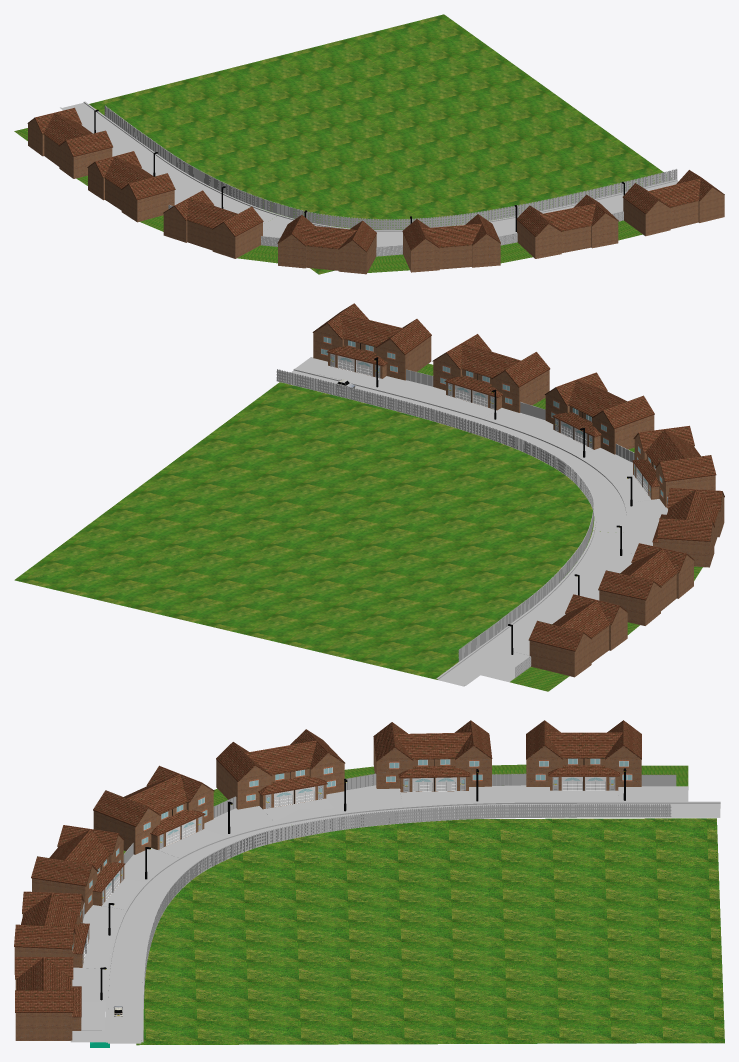
Rendered from Level.fbx.
3 renders of one model, top to bottom at view 1: azimuth 30°, elevation 25°; view 2: azimuth 150°, elevation 25°; view 3: azimuth 270°, elevation 25°, orthographic. The views are drawn at different scales.
Parts seen in each view (by area): view 1: AlwaysGreener, Cube.001, Road, HouseBody.001, HouseBody, HouseBody.003, HouseBody.002, HouseBody.004, HouseBody.005, HouseBody.006, SideRoofs.006, SideRoofs.005 (+16 smaller); view 2: AlwaysGreener, Road, Cube.001, Drive, HouseBody.006, HouseBody.005, HouseBody, HouseBody.001, SideRoofs.004, HouseBody.002, SideRoofs.003, SideRoofs.005 (+18 smaller); view 3: AlwaysGreener, Road, Drive, Cube.001, HouseBody.004, SideRoofs.001, SideRoofs.002, SideRoofs, HouseBody.003, HouseBody.005, HouseBody.006, SideRoofs.003 (+28 smaller).
Boxes of the visible parts, left/top/right/bottom form: AlwaysGreener: left=89, top=14, right=671, bottom=274; Cube.001: left=104, top=105, right=677, bottom=229; Road: left=60, top=101, right=678, bottom=242; HouseBody.001: left=517, top=213, right=618, bottom=258; HouseBody: left=623, top=187, right=724, bottom=236; HouseBody.003: left=278, top=234, right=376, bottom=274; HouseBody.002: left=403, top=233, right=500, bottom=272; HouseBody.004: left=163, top=207, right=262, bottom=258; HouseBody.005: left=88, top=163, right=174, bottom=222; HouseBody.006: left=28, top=119, right=112, bottom=178; SideRoofs.006: left=27, top=107, right=112, bottom=156; SideRoofs.005: left=87, top=151, right=175, bottom=200; AlwaysGreener: left=14, top=382, right=608, bottom=679; Road: left=291, top=368, right=628, bottom=686; Cube.001: left=276, top=369, right=593, bottom=661; Drive: left=295, top=357, right=667, bottom=682; HouseBody.006: left=529, top=607, right=627, bottom=677; HouseBody.005: left=599, top=555, right=693, bottom=625; HouseBody: left=313, top=324, right=431, bottom=380; HouseBody.001: left=433, top=353, right=549, bottom=412; SideRoofs.004: left=657, top=488, right=724, bottom=541; HouseBody.002: left=545, top=388, right=654, bottom=454; SideRoofs.003: left=633, top=425, right=716, bottom=481; SideRoofs.005: left=598, top=543, right=694, bottom=600; AlwaysGreener: left=136, top=818, right=724, bottom=1045; Road: left=105, top=801, right=720, bottom=1043; Drive: left=70, top=785, right=688, bottom=1042; Cube.001: left=143, top=804, right=671, bottom=1042; HouseBody.004: left=216, top=753, right=344, bottom=809; SideRoofs.001: left=14, top=891, right=83, bottom=949; SideRoofs.002: left=31, top=825, right=124, bottom=886; SideRoofs: left=15, top=957, right=73, bottom=1012; HouseBody.003: left=93, top=784, right=213, bottom=854; HouseBody.005: left=373, top=740, right=491, bottom=788; HouseBody.006: left=526, top=746, right=641, bottom=786; SideRoofs.003: left=93, top=765, right=214, bottom=827.
Size of the model in its own units: 23415 by 3025 by 25087.
